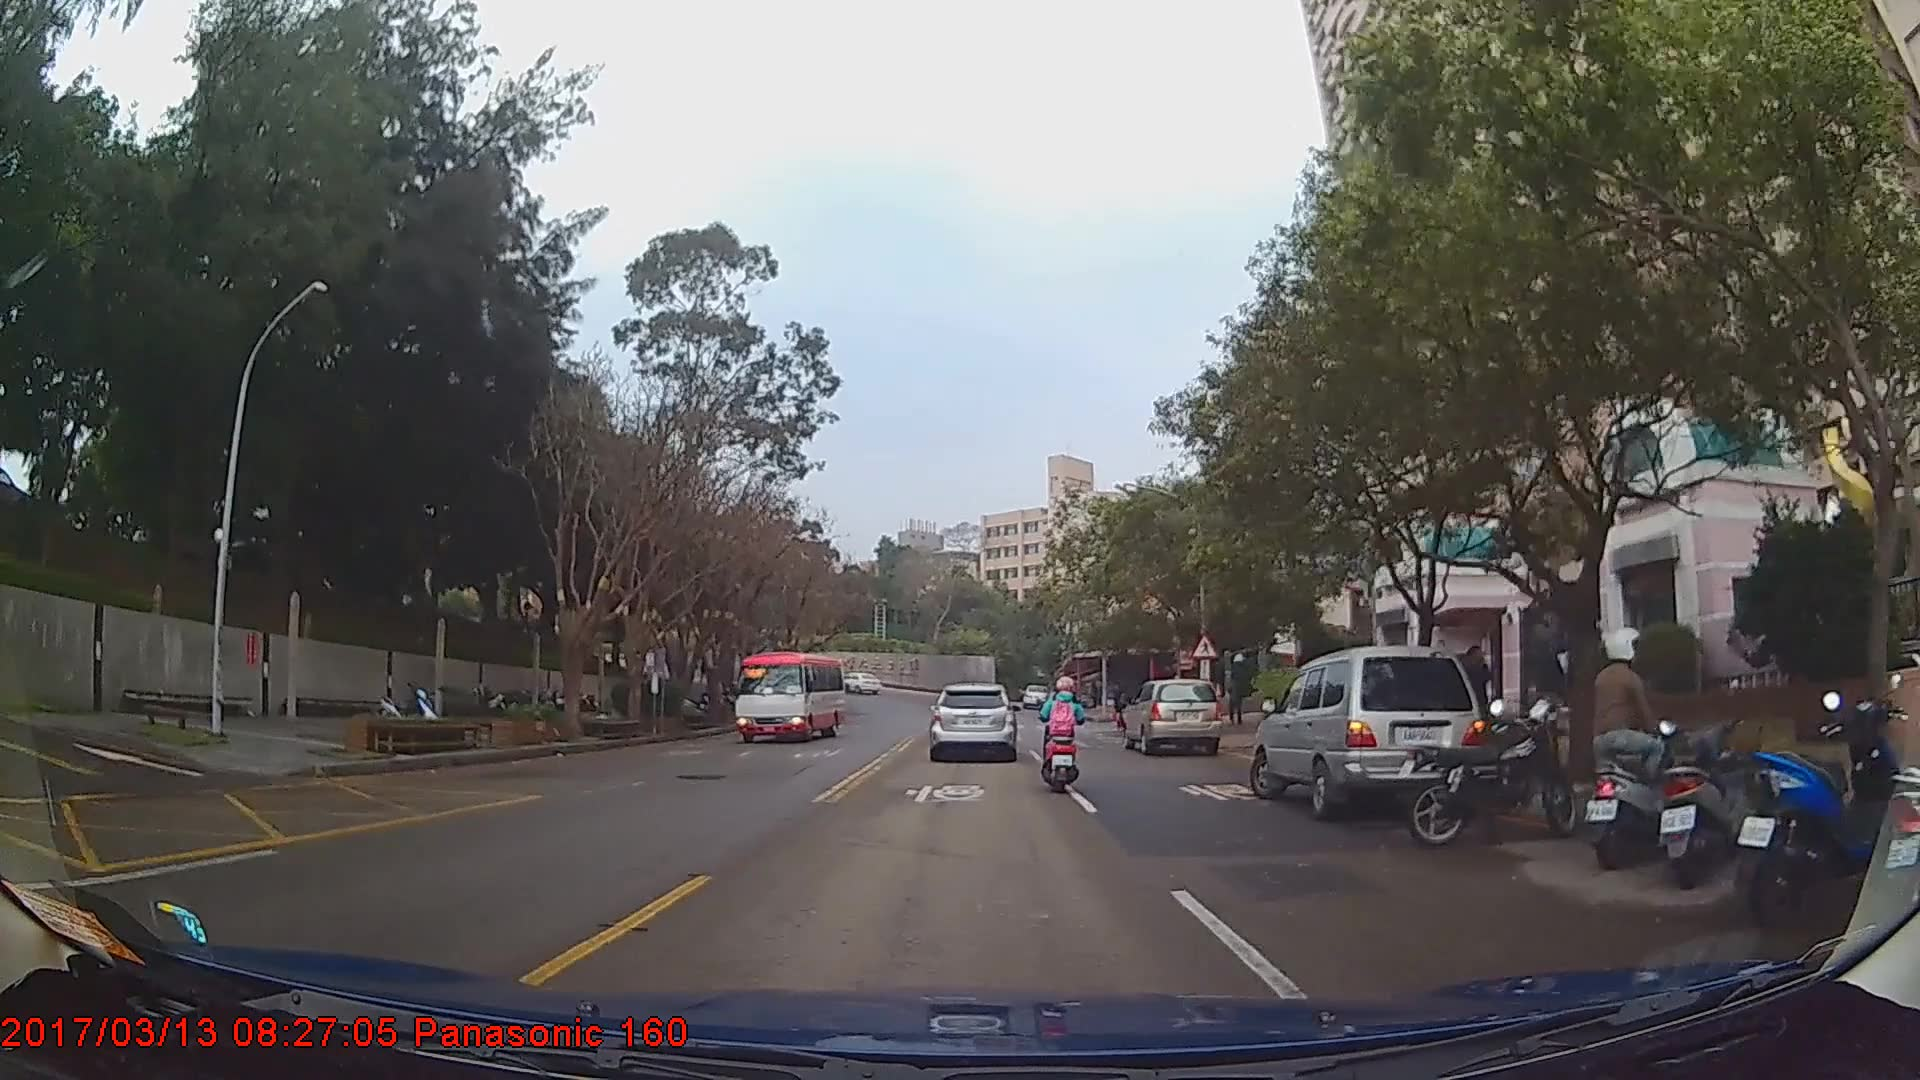pedestrian: (1458, 643, 1491, 737)
rider: (1034, 667, 1089, 798)
vehicle: (1250, 645, 1486, 820), (732, 651, 843, 740), (1124, 677, 1222, 752), (927, 679, 1018, 760), (835, 667, 879, 694)
